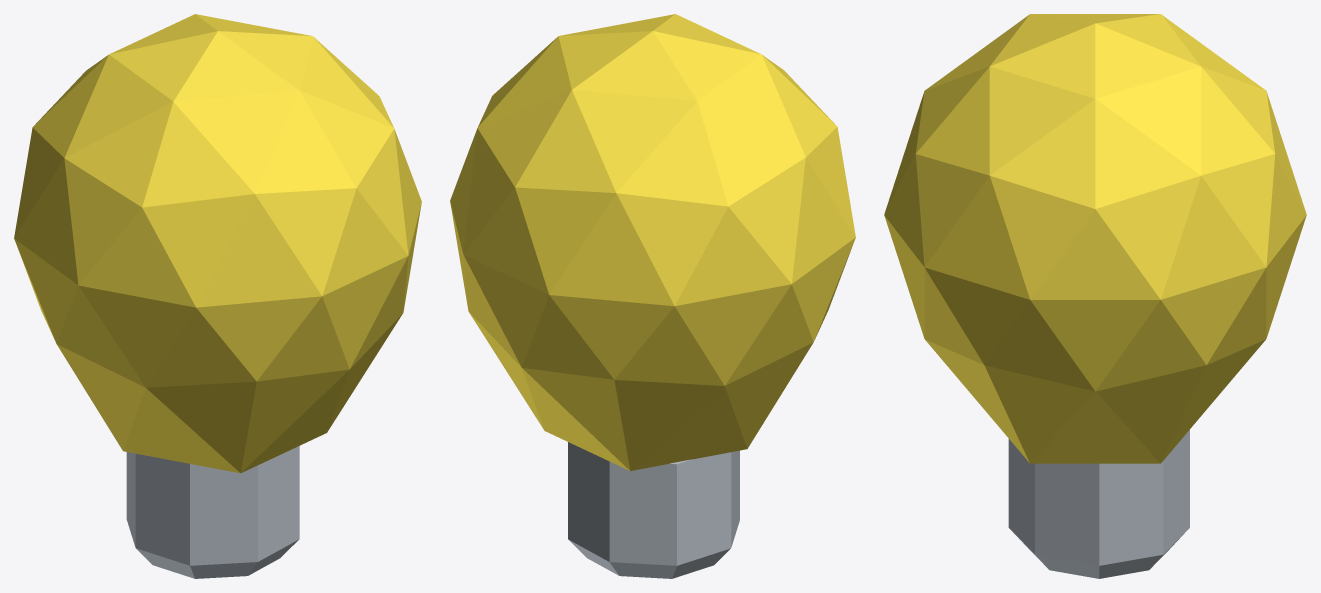
The model's file is utilities.gltf.
3 renders of one model, left to right at view 1: azimuth 30°, elevation 25°; view 2: azimuth 150°, elevation 25°; view 3: azimuth 270°, elevation 25°, orthographic.
Parts seen in each view (by area): view 1: Utilities; view 2: Utilities; view 3: Utilities.
Boxes of the visible parts, left/top/right/bottom form: Utilities: left=14, top=14, right=421, bottom=578; Utilities: left=450, top=14, right=855, bottom=578; Utilities: left=884, top=14, right=1306, bottom=578.
Size of the model in its own units: 0.8658 by 1.25 by 0.9103.
Materials: 1 (1 with a texture image).
